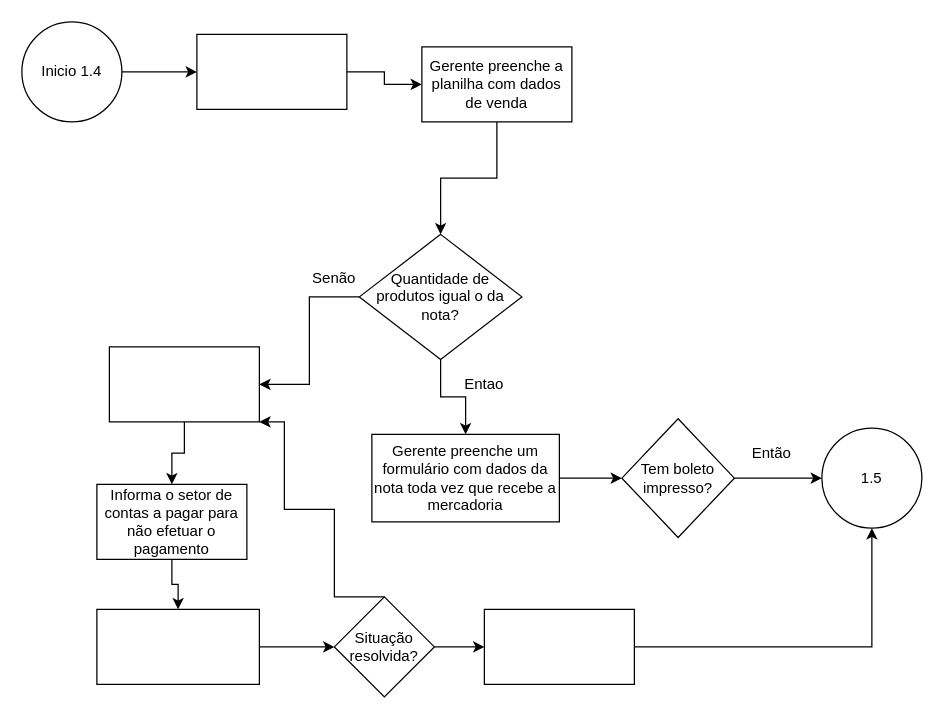
Some shapes in this 944 by 719 pixel diagram are drawn without their labels. Each missing label, with the centre of its shape:
Aguarda o retorno do fornecedor: the point at 177,646
Entra em contato com o fornecedor: the point at 183,384
Gerente recebe mercadoria + DANFE: the point at 271,71
Preencher o formulário: the point at 558,646
